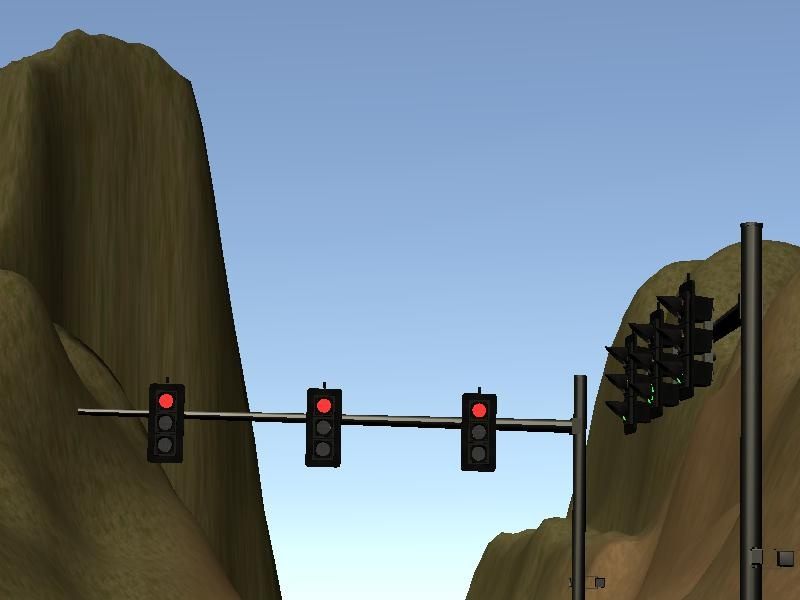red: (300, 379, 348, 473), (456, 382, 504, 476), (145, 376, 186, 465)
